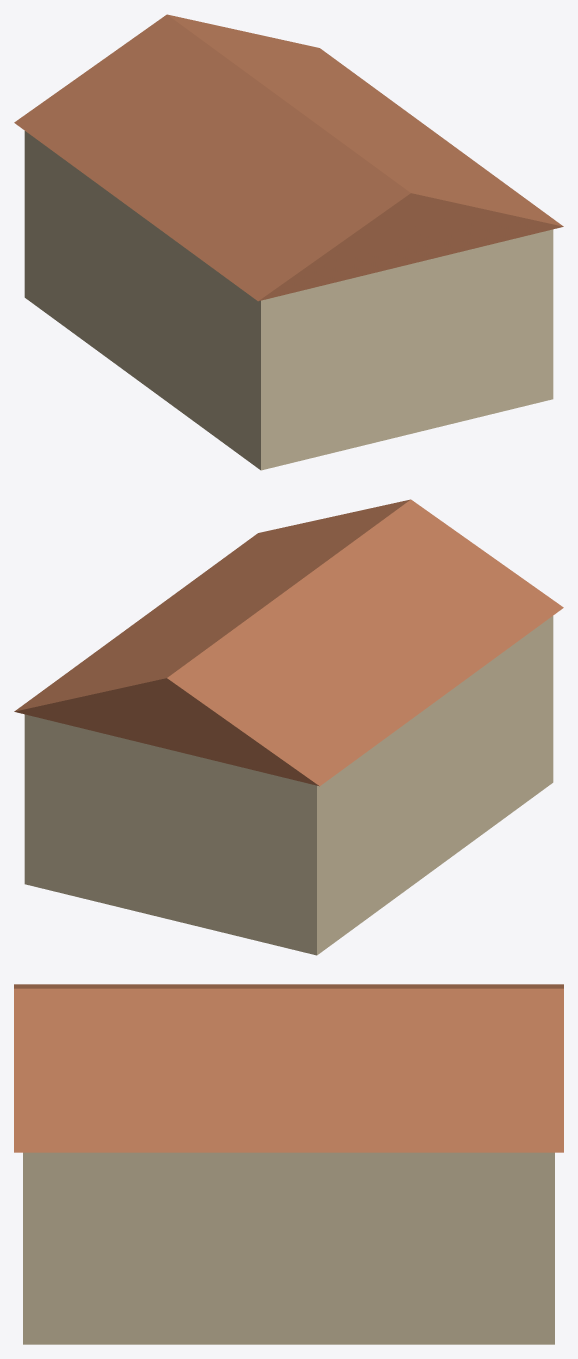
Rendered from block_warehouse.glb.
The picture shows the model from 3 angles, top to bottom: view 1: azimuth 30°, elevation 25°; view 2: azimuth 150°, elevation 25°; view 3: azimuth 270°, elevation 25°; orthographic projection. The views are drawn at different scales.
Visible parts, largest first — view 1: Body.003, Roof.003; view 2: Body.003, Roof.003; view 3: Body.003, Roof.003.
Boxes of the visible parts, x1,y1,x2,y2 form: Body.003: (24, 131, 553, 470); Roof.003: (14, 14, 563, 301); Body.003: (24, 616, 553, 955); Roof.003: (14, 499, 563, 786); Body.003: (23, 1152, 554, 1344); Roof.003: (14, 984, 563, 1152).
Size of the model in its own units: 15.7 by 12 by 21.7.
